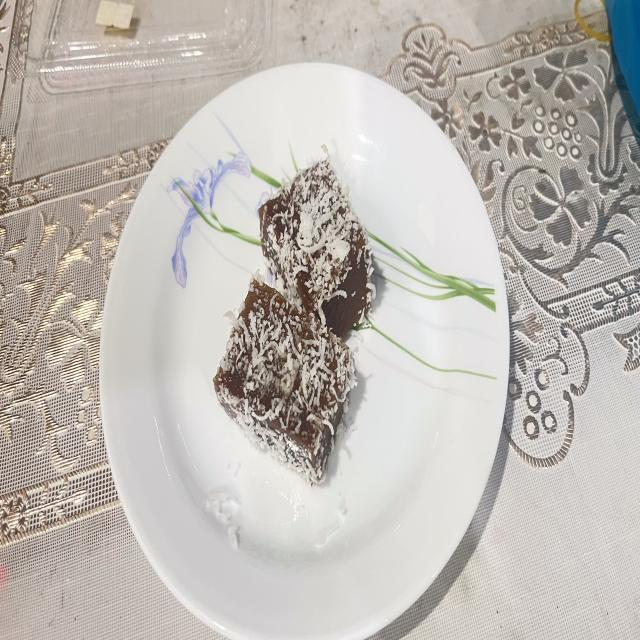kaswi: (214, 278, 356, 484), (259, 153, 372, 338)
